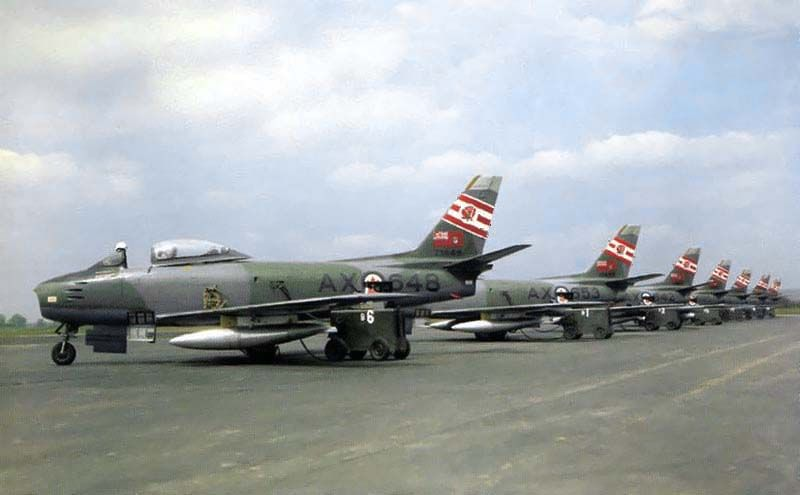Aeronef_militaire: (19, 163, 535, 384), (406, 223, 666, 349), (605, 241, 715, 335), (691, 255, 735, 324), (725, 263, 751, 324), (749, 264, 770, 322), (769, 273, 786, 318)
